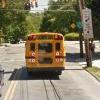buses: (23, 31, 66, 76)
